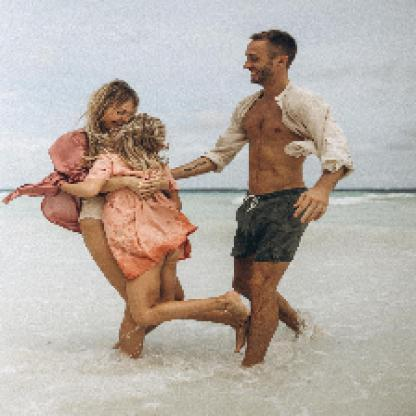child: (59, 113, 252, 331)
